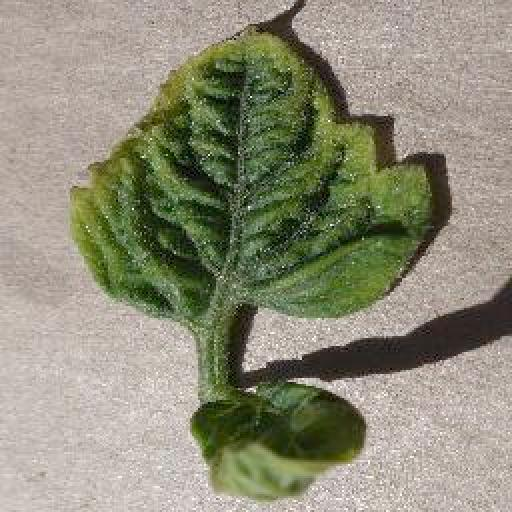disease_tomato: (70, 25, 434, 319)
